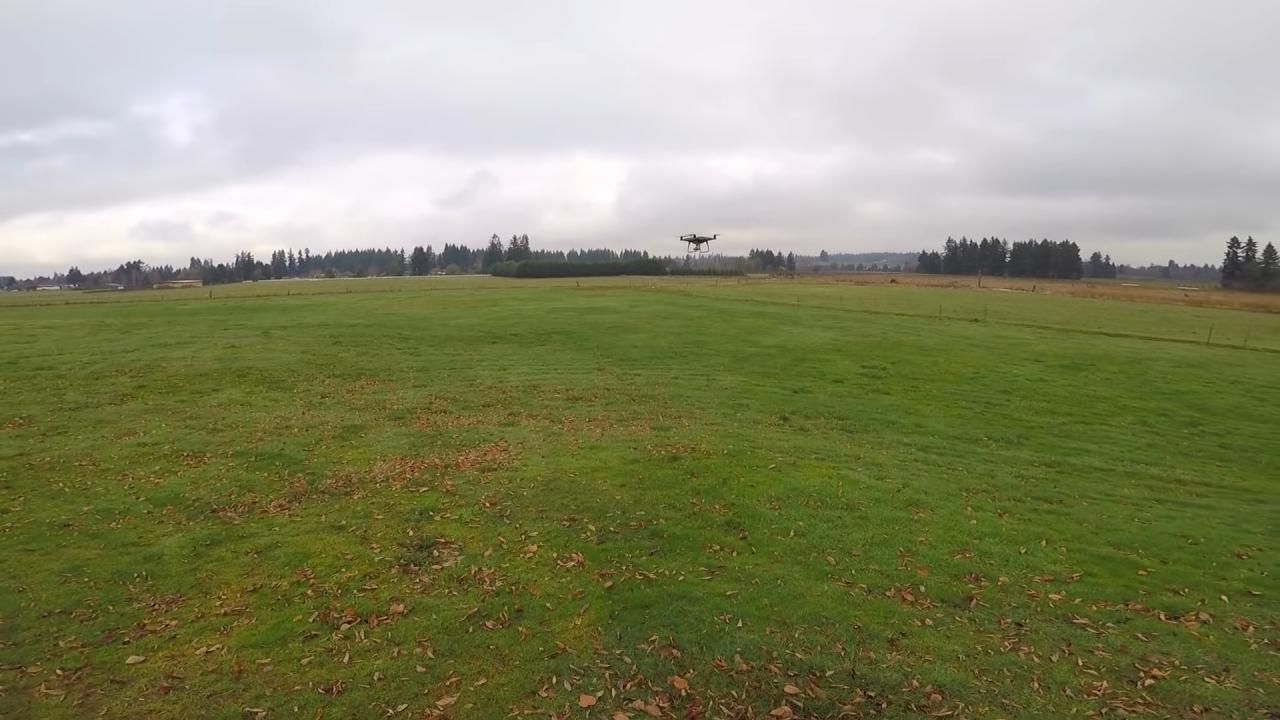Drone: (670, 225, 726, 258)
